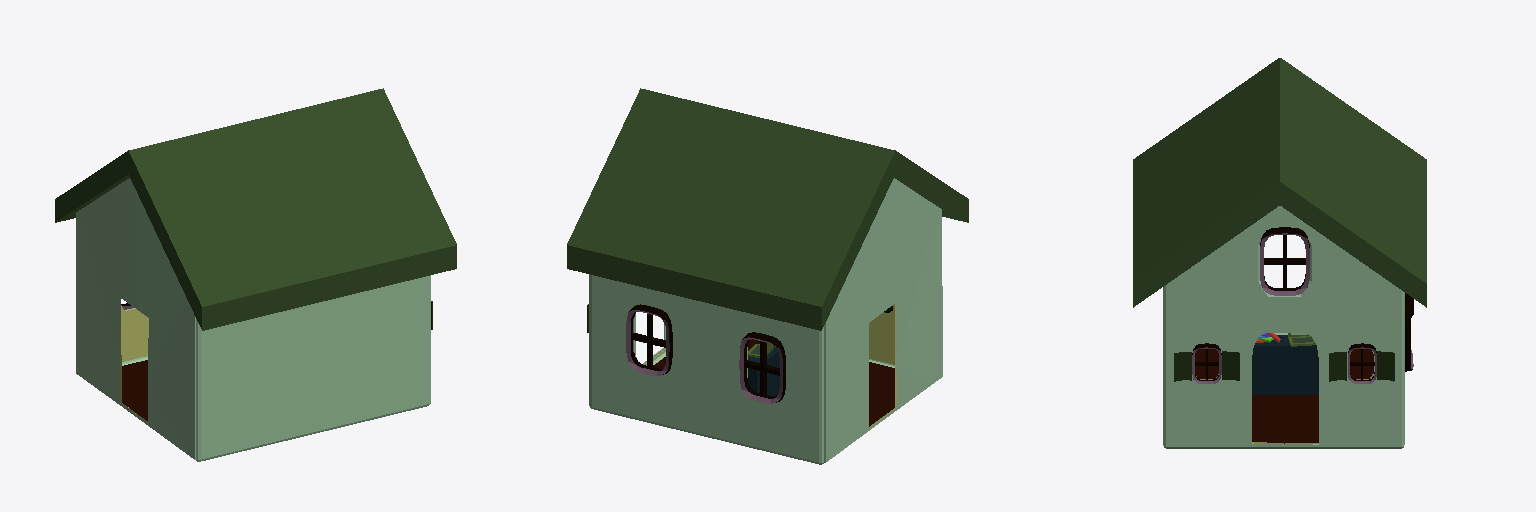
File: House4.obj
The picture shows the model from 3 angles: view 1: azimuth 30°, elevation 25°; view 2: azimuth 150°, elevation 25°; view 3: azimuth 270°, elevation 25°; orthographic projection.
Visible parts, largest first — view 1: Cube.012, House4.001, wall3.001, floor.001; view 2: Cube.012, House4.001, window.008, window.007, floor.001, wall7.001, Cube.006; view 3: Cube.012, House4.001, floor.001, Cube.006, window.009, window.005, window.007, window.006.
Part boxes in pixels (x1,y1,x2,y2): Cube.012: (55, 88, 456, 330); House4.001: (76, 178, 430, 461); wall3.001: (121, 309, 148, 361); floor.001: (122, 360, 147, 420); Cube.012: (567, 88, 968, 330); House4.001: (589, 178, 942, 464); window.008: (739, 332, 785, 403); window.007: (626, 304, 672, 375); floor.001: (653, 339, 894, 426); wall7.001: (869, 304, 894, 364); Cube.006: (748, 346, 779, 396); Cube.012: (1133, 58, 1426, 307); House4.001: (1163, 206, 1404, 448); floor.001: (1195, 349, 1373, 443); Cube.006: (1252, 335, 1318, 394); window.009: (1260, 227, 1309, 295); window.005: (1192, 343, 1221, 383); window.007: (1405, 296, 1413, 371); window.006: (1348, 343, 1376, 383).
Bounding box in the file's own units: 1.18 × 1.21 × 1.18.